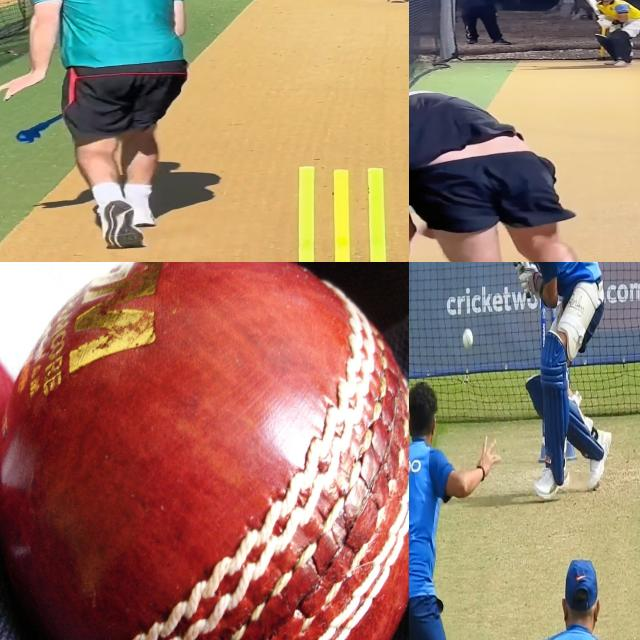Cricket ball: (0, 262, 409, 640), (462, 328, 474, 352)
